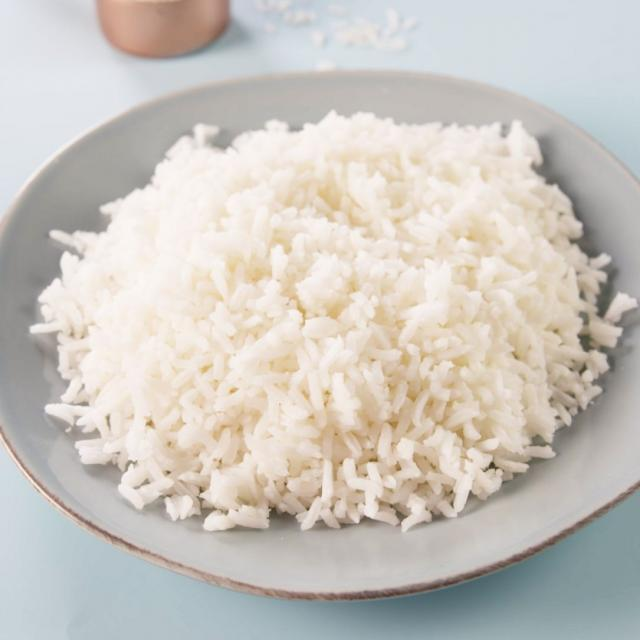Rice: (32, 81, 640, 538)
